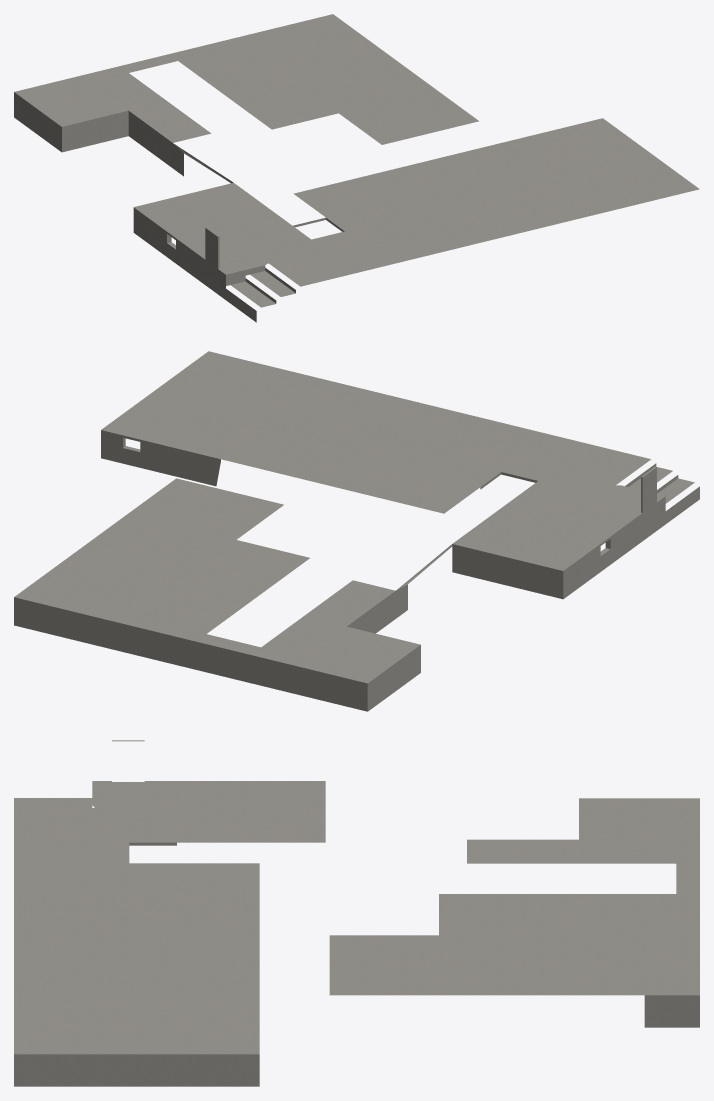
The model's file is kd_stage_135ded_4_7_bounded.glb.
The picture shows the model from 3 angles, top to bottom: view 1: azimuth 30°, elevation 25°; view 2: azimuth 150°, elevation 25°; view 3: azimuth 270°, elevation 25°; orthographic projection. The views are drawn at different scales.
Parts seen in each view (by area): view 1: kd_stage_135ded_4_7_bounded; view 2: kd_stage_135ded_4_7_bounded; view 3: kd_stage_135ded_4_7_bounded.
Boxes of the visible parts, x1,y1,x2,y2 form: kd_stage_135ded_4_7_bounded: (14, 14, 699, 322); kd_stage_135ded_4_7_bounded: (14, 351, 699, 711); kd_stage_135ded_4_7_bounded: (14, 740, 699, 1086).
Bounding box in the file's own units: 9.96 × 1.24 × 10.56.
Materials: 1 (1 with a texture image).
